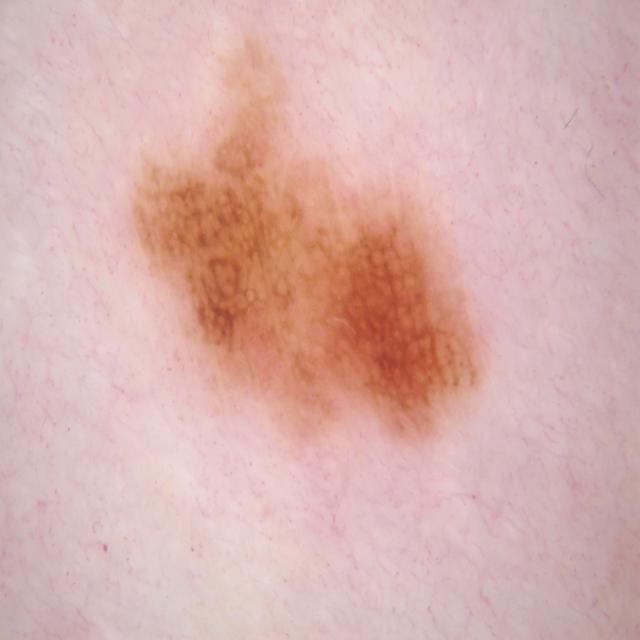Skin-Cancer Melanoma: (11, 15, 572, 640)
